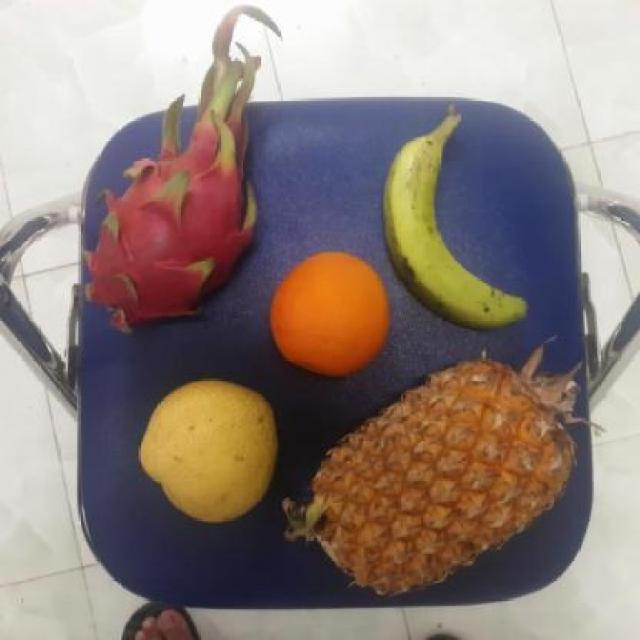banana: (380, 132, 537, 336)
dragon fruit: (83, 134, 262, 326)
oren: (268, 248, 390, 379)
pear: (132, 377, 283, 521)
pineapple: (316, 354, 579, 601)
